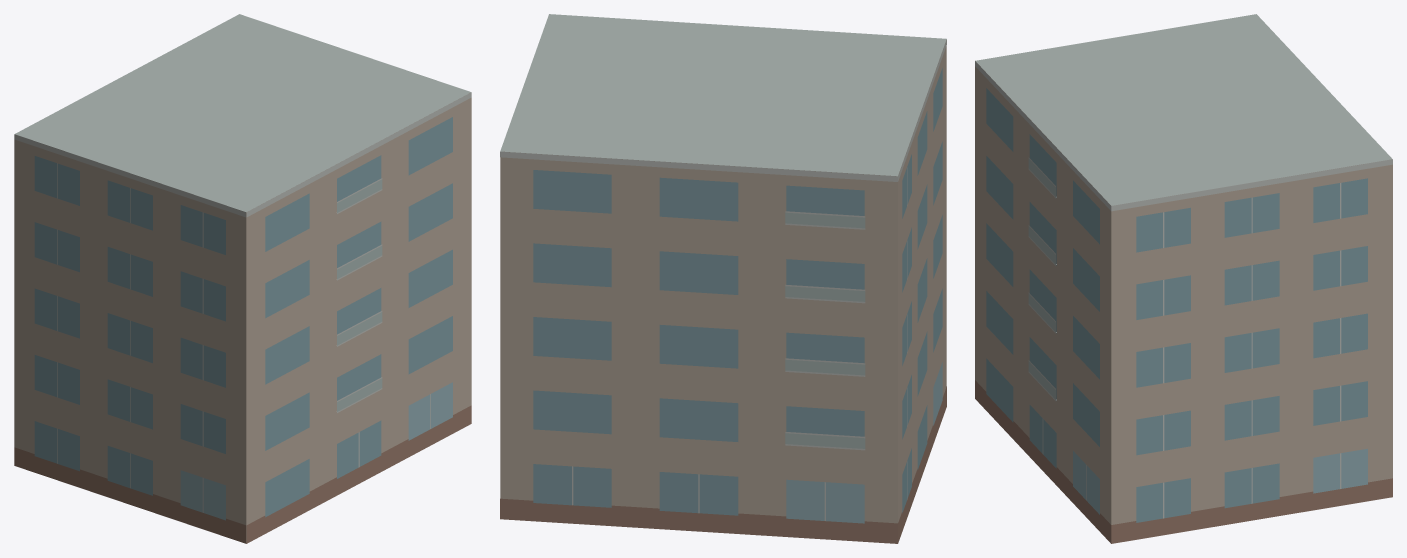
The model's file is survey-upis-32950779.glb.
3 renders of one model, left to right at view 1: azimuth 30°, elevation 25°; view 2: azimuth 150°, elevation 25°; view 3: azimuth 270°, elevation 25°, orthographic. The views are drawn at different scales.
Parts seen in each view (by area): view 1: survey-upis-32950779.tmp; view 2: survey-upis-32950779.tmp; view 3: survey-upis-32950779.tmp.
Part boxes in pixels (left/top/right/bottom): survey-upis-32950779.tmp: left=14, top=14, right=471, bottom=543; survey-upis-32950779.tmp: left=500, top=14, right=946, bottom=543; survey-upis-32950779.tmp: left=975, top=14, right=1392, bottom=543.
Bounding box in the file's own units: 18.58 × 15.25 × 17.09.
